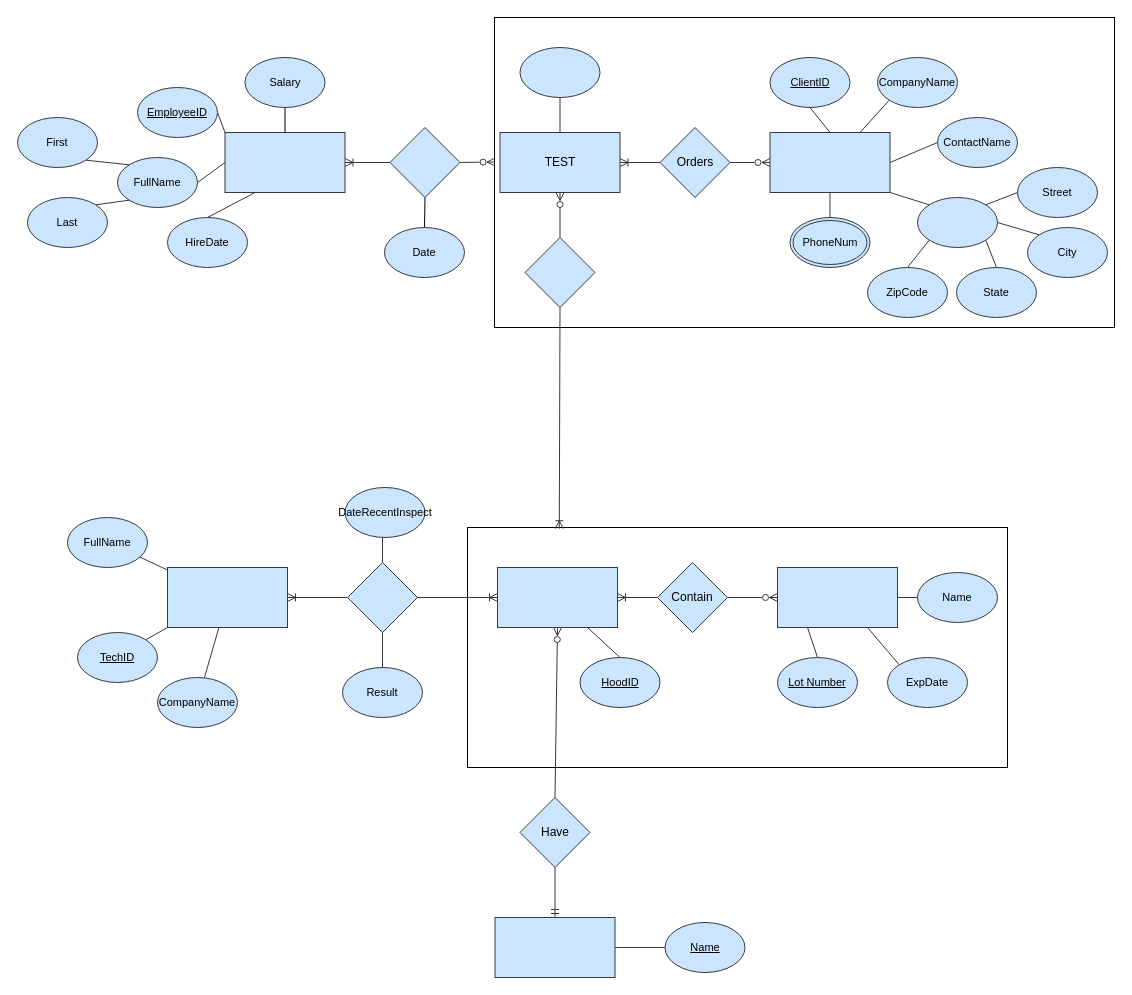
The diagram is 1132 pixels wide and 995 high, and some of its shapes have lost their labels. Here are the shapes that lost their labels. From the top down, the centre of each, then its label:
pixel 559 72: TestID
pixel 284 162: EMPLOYEE
pixel 424 162: Handles
pixel 829 162: CLIENT
pixel 957 222: Address
pixel 559 272: Uses
pixel 227 597: TECHNICIAN
pixel 382 597: Inspect
pixel 557 597: FUME HOOD
pixel 837 597: MATERIAL
pixel 554 947: DEPARTMENT
